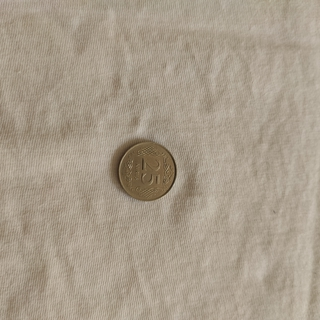25KURUS: (116, 139, 177, 201)
